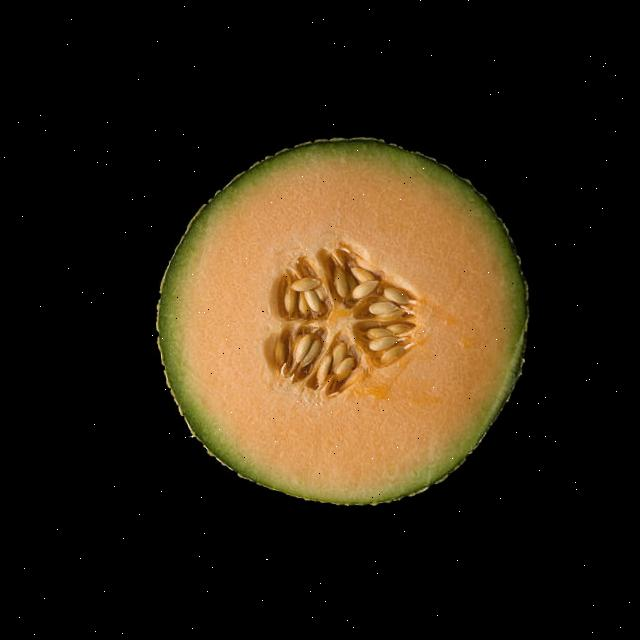Hami Melon: (140, 120, 547, 520)
